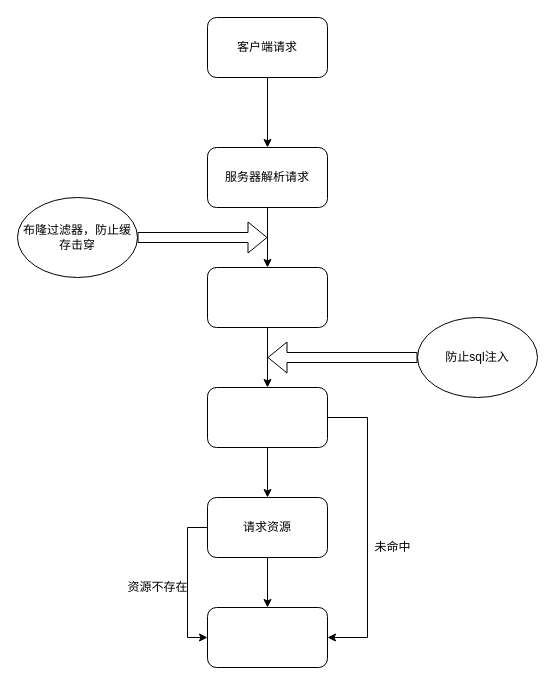
Some shapes in this 555 by 685 pixel diagram are drawn without their labels. The centre of each missing label's shape, as x and y in pixels:
"未命中，访问 mysql" belongs at (267,417).
"获取 redis 数据库的数据" belongs at (267,297).
"返回给客户端" belongs at (267,637).
